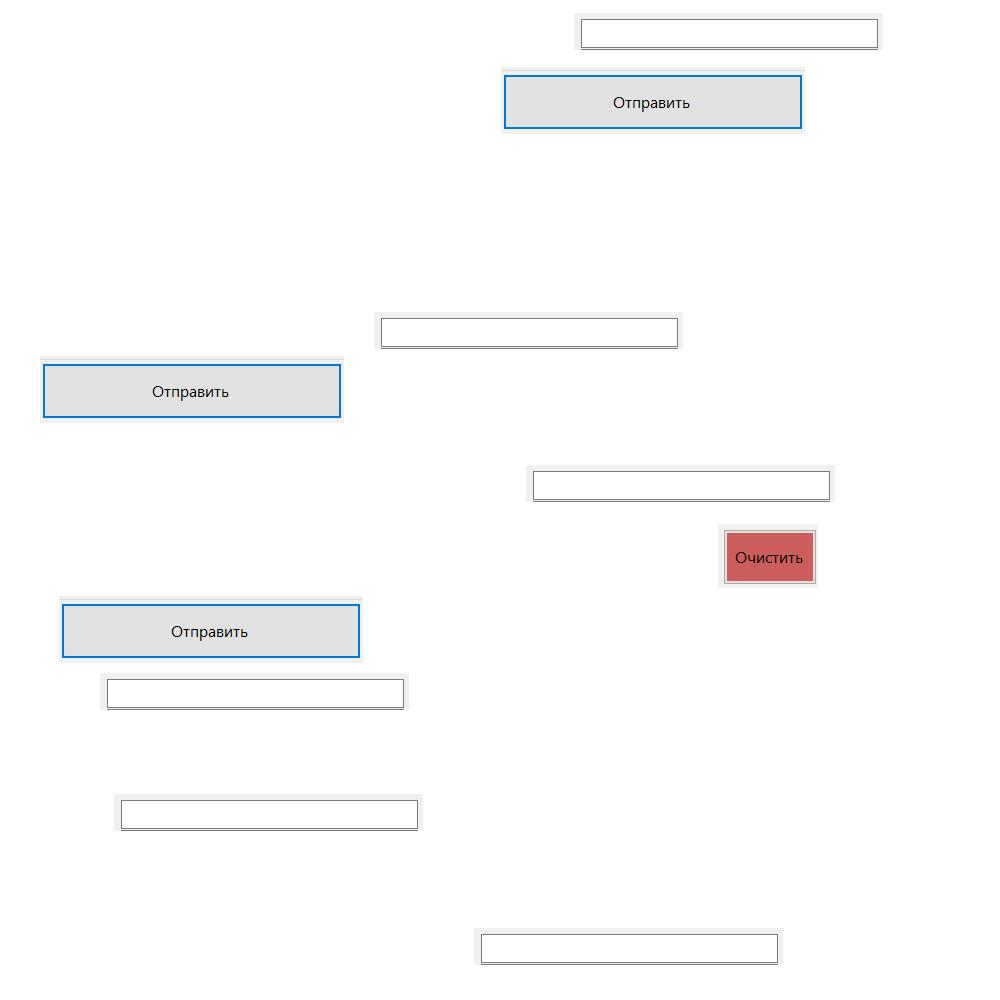Button: (501, 67, 805, 134), (40, 356, 344, 423), (59, 596, 363, 663), (718, 524, 818, 588)
EditText-: (474, 928, 783, 965), (100, 673, 409, 710), (114, 794, 423, 831), (374, 312, 683, 349), (574, 13, 883, 50), (526, 465, 835, 502)
